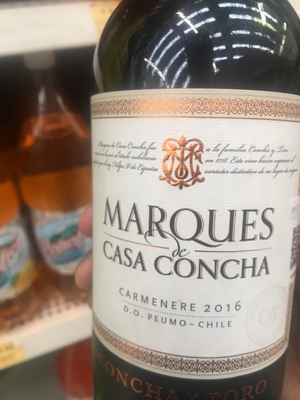marques de casa concha carmenere: (88, 12, 300, 393)
